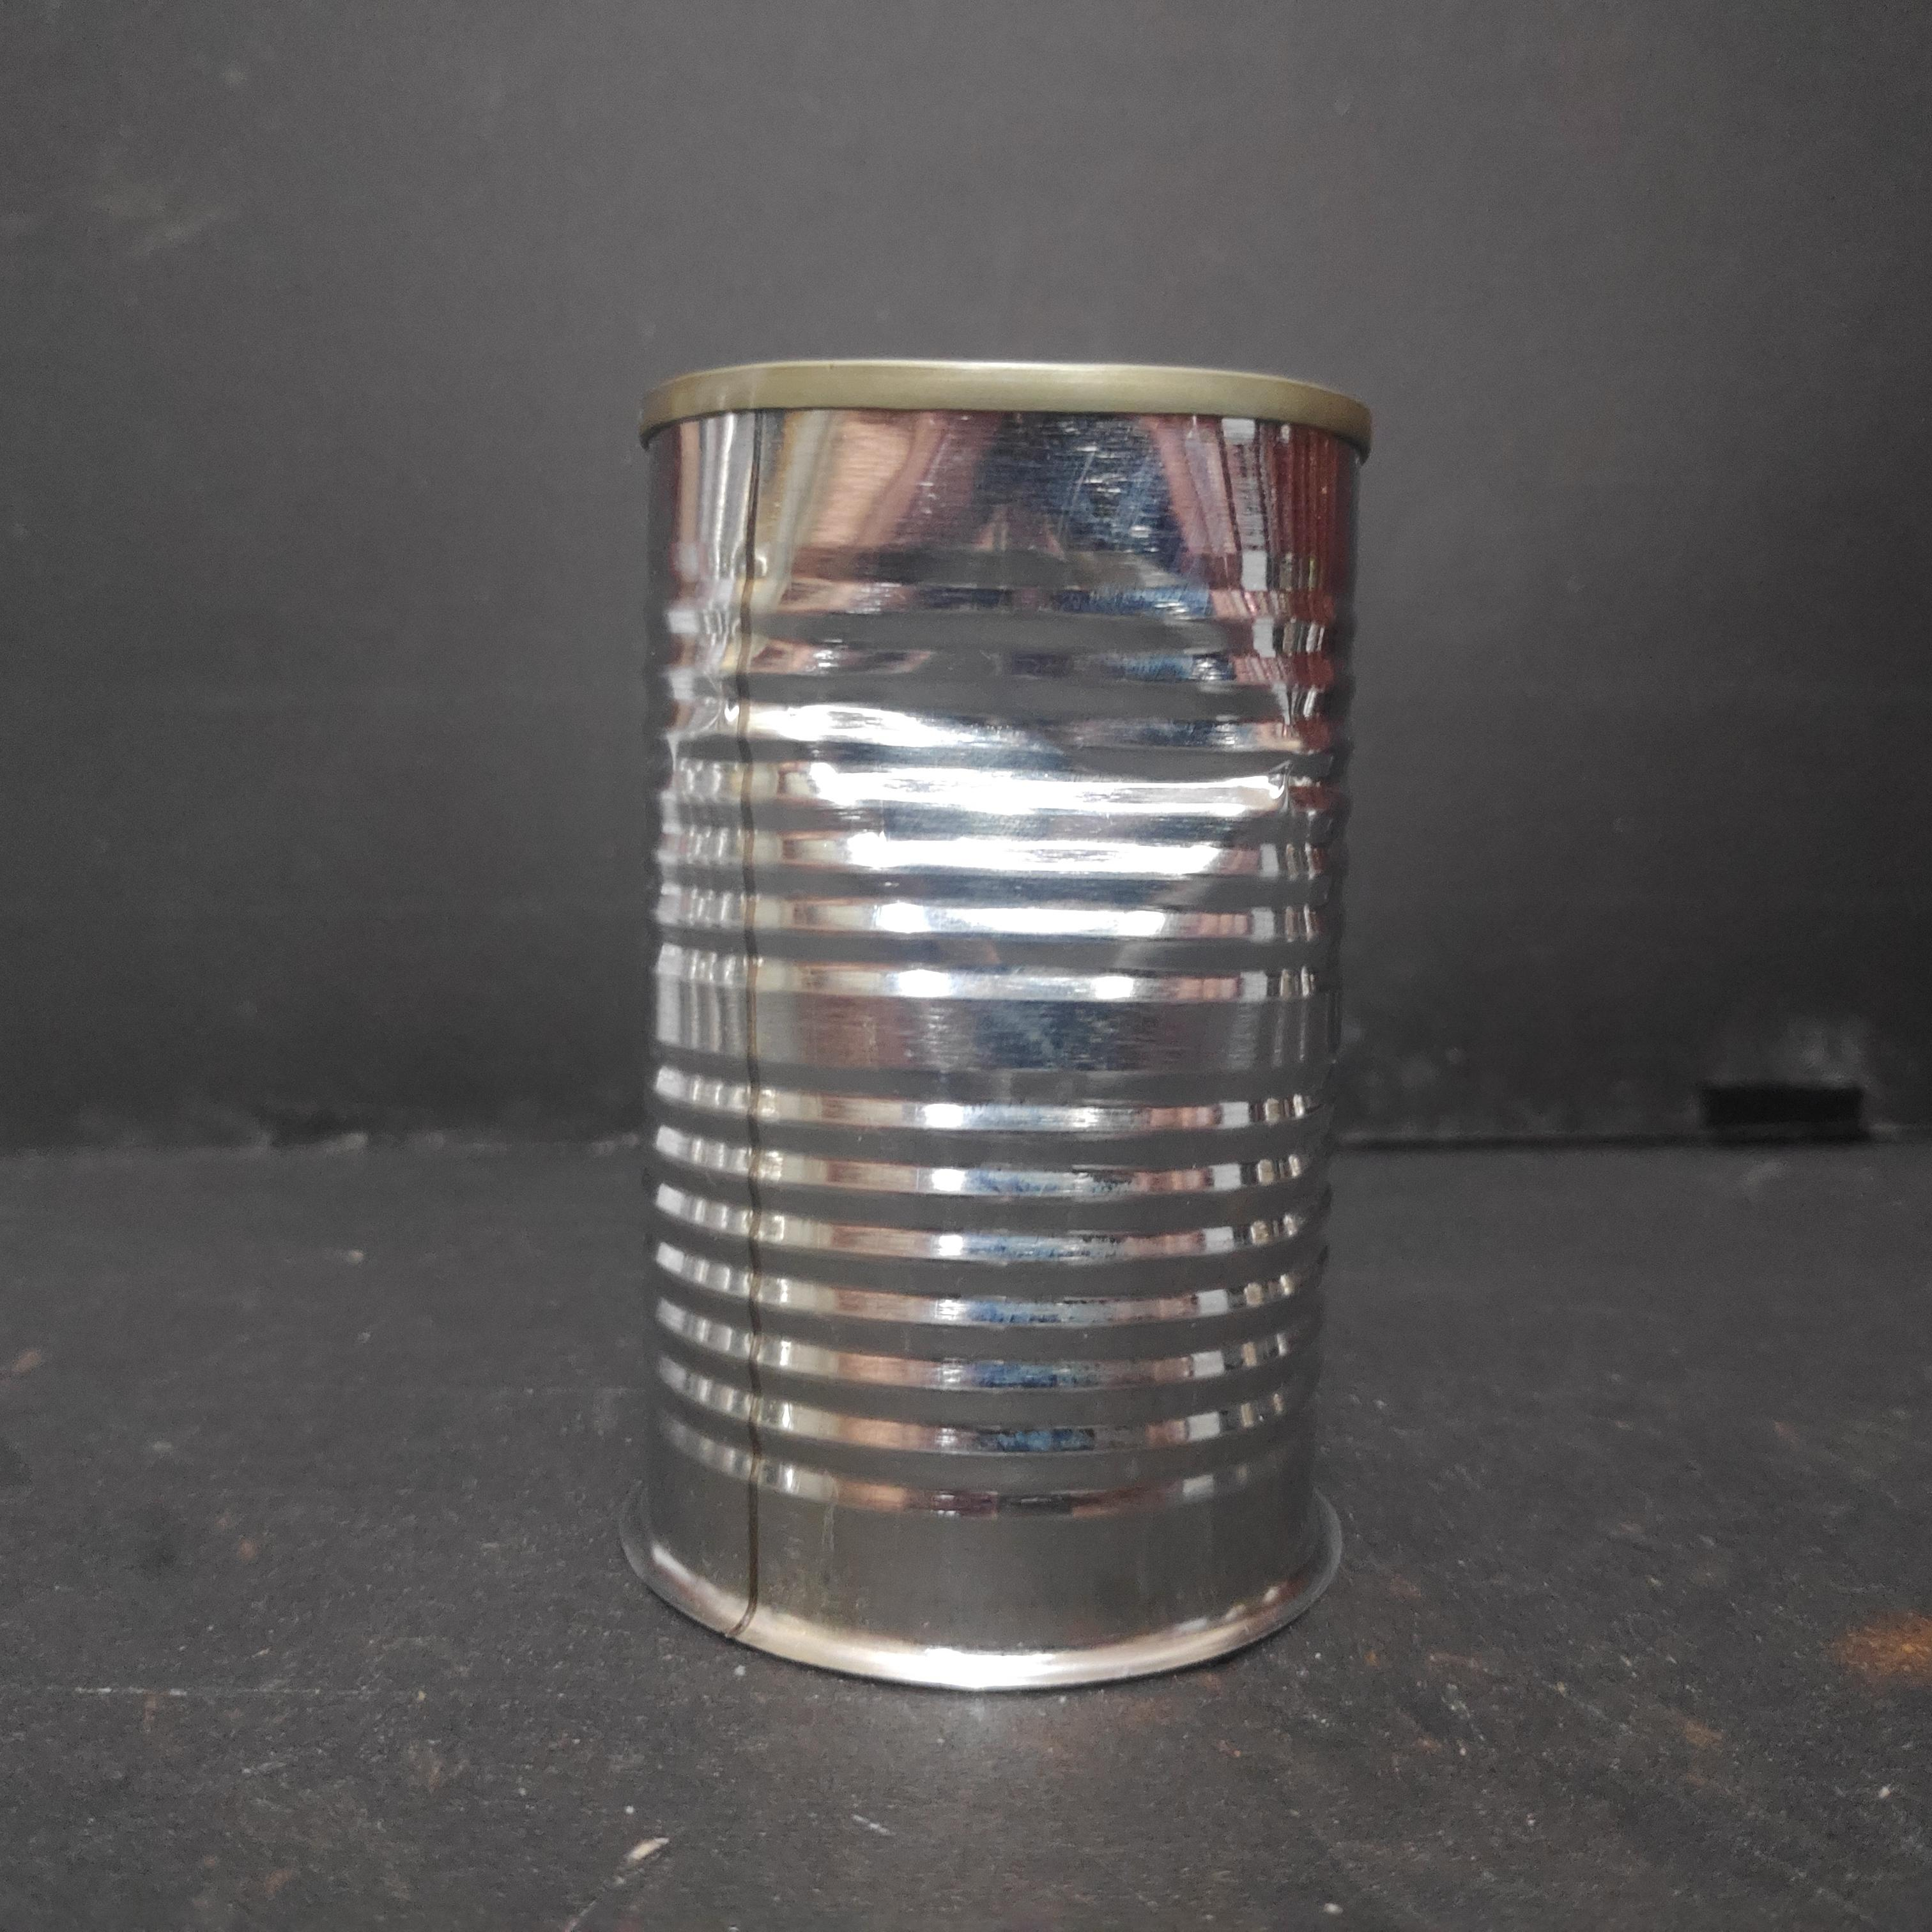Minor Defect: (618, 342, 1395, 1715)
